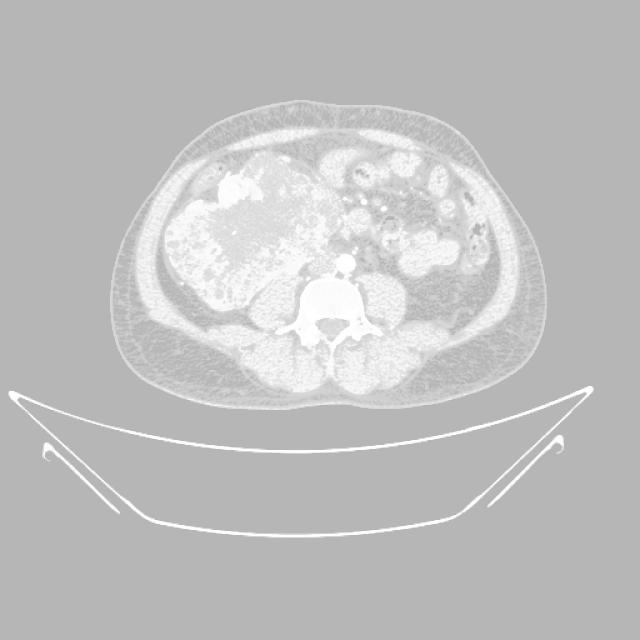TUMOR: (193, 155, 533, 320)
